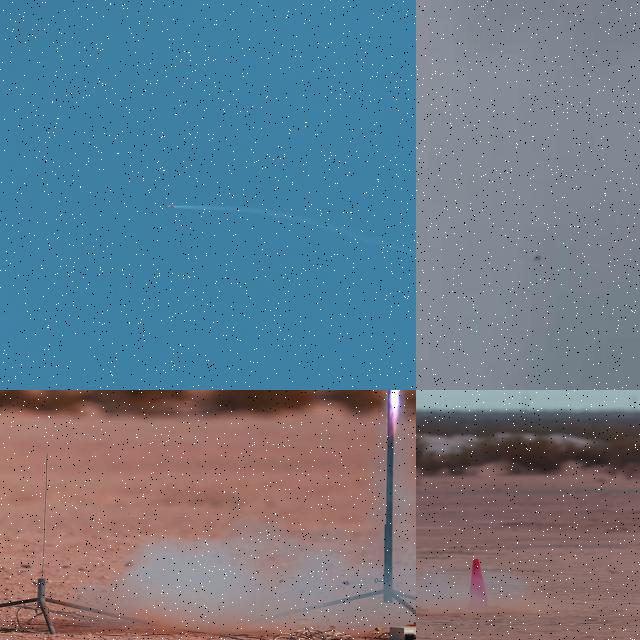Rocket: (534, 255, 542, 262), (167, 205, 175, 208)
